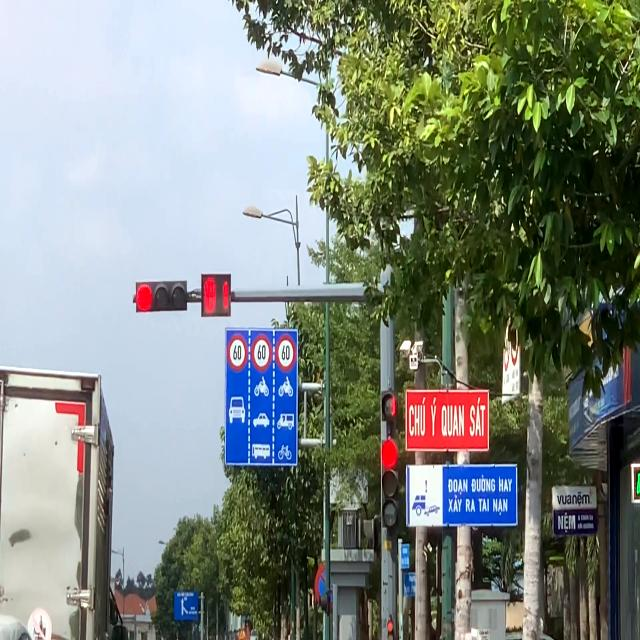P.127: (226, 334, 248, 373), (250, 334, 272, 373), (276, 334, 297, 372)
